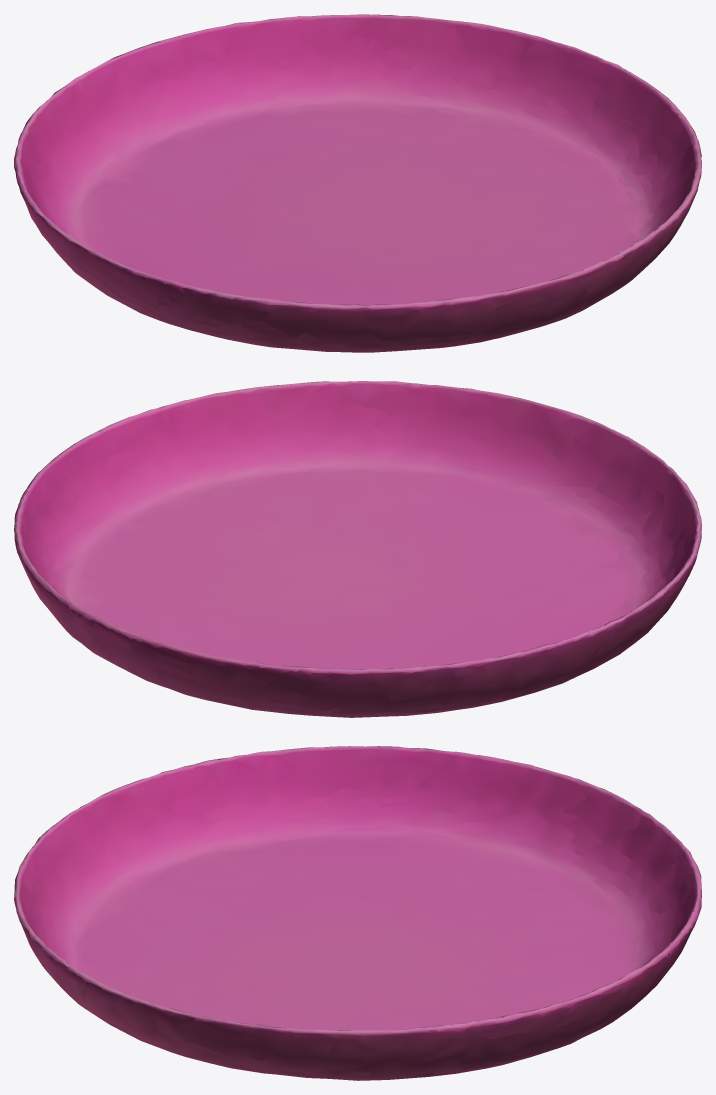
The model's file is 0010_mask_011_red_plate.glb.
3 views of the same model, one above another, from view 1: azimuth 30°, elevation 25°; view 2: azimuth 150°, elevation 25°; view 3: azimuth 270°, elevation 25° (orthographic).
Parts seen in each view (by area): view 1: mask_011_object; view 2: mask_011_object; view 3: mask_011_object.
Boxes of the visible parts, x1=… form: mask_011_object: x1=14, y1=14, x2=701, y2=352; mask_011_object: x1=14, y1=381, x2=701, y2=717; mask_011_object: x1=14, y1=746, x2=701, y2=1080.
Bounding box in the file's own units: 0.2395 × 0.0288 × 0.2409.
